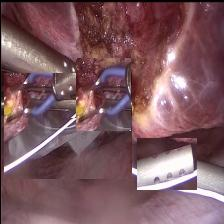Bipolar: (75, 57, 130, 130)
Grasper: (22, 83, 108, 117)
Irrigator: (136, 137, 196, 189)
Specimen Bag: (3, 72, 130, 178)
